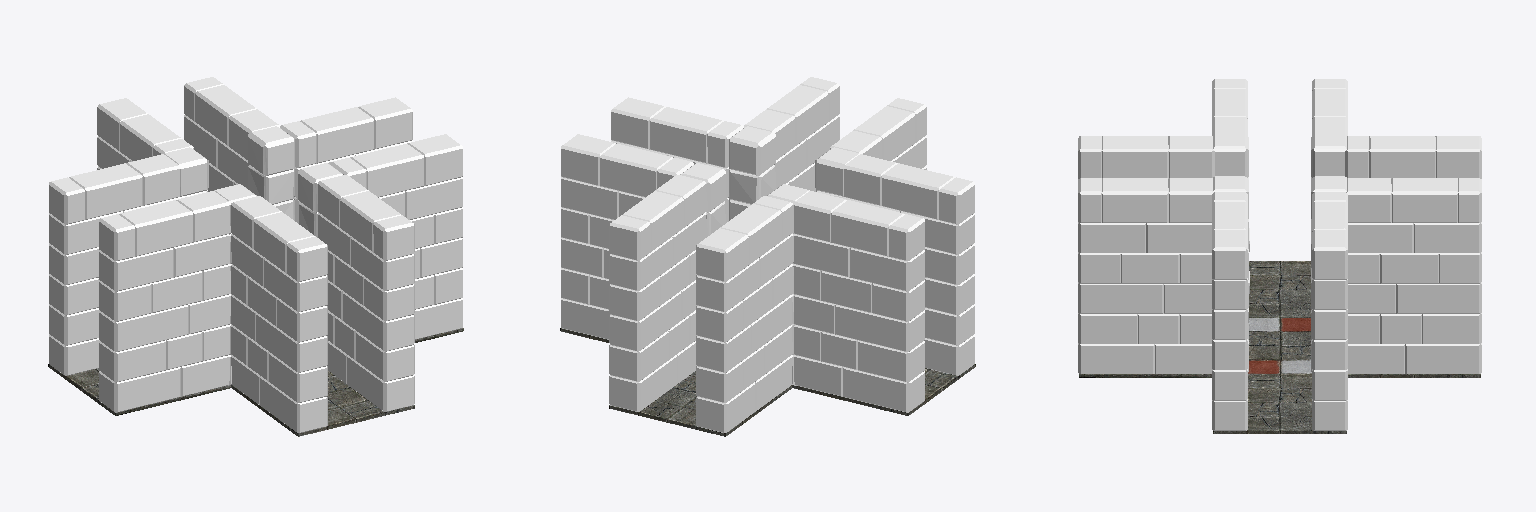
The picture shows the model from 3 angles: view 1: azimuth 30°, elevation 25°; view 2: azimuth 150°, elevation 25°; view 3: azimuth 270°, elevation 25°; orthographic projection.
Visible parts, largest first — view 1: Box4150, Box4149, Box4139, Box4132, Box4151, Box3456, Box4152, Box3458, Box4146, Box030, Box4147, Box4145 (+2 smaller); view 2: Box4132, Box3458, Box3456, Box4150, Box4152, Box4139, Box4151, Box4149, Box4147, Box4140, Box4146, Box4148 (+2 smaller); view 3: Box3456, Box4139, Box4151, Box4152, Box3458, Box4149, Box026, Box024, Box00234, Box4132, Box4150, Box4145 (+5 smaller).
Part boxes in pixels (bbox=[...]): Box4150: bbox=[99, 191, 231, 412]; Box4149: bbox=[231, 196, 327, 432]; Box4139: bbox=[318, 175, 414, 411]; Box4132: bbox=[49, 154, 179, 375]; Box4151: bbox=[330, 134, 462, 339]; Box3456: bbox=[184, 77, 279, 191]; Box4152: bbox=[280, 97, 412, 223]; Box3458: bbox=[97, 98, 193, 169]; Box4146: bbox=[248, 126, 294, 220]; Box030: bbox=[231, 371, 414, 436]; Box4147: bbox=[298, 163, 342, 237]; Box4145: bbox=[164, 147, 208, 198]; Box4132: bbox=[792, 191, 924, 412]; Box3458: bbox=[696, 196, 792, 432]; Box3456: bbox=[609, 175, 705, 411]; Box4150: bbox=[843, 154, 974, 375]; Box4152: bbox=[561, 134, 693, 339]; Box4139: bbox=[744, 77, 839, 191]; Box4151: bbox=[611, 97, 743, 222]; Box4149: bbox=[830, 98, 926, 169]; Box4147: bbox=[729, 126, 775, 220]; Box4140: bbox=[609, 371, 792, 436]; Box4146: bbox=[681, 163, 725, 237]; Box4148: bbox=[815, 147, 859, 197]; Box3456: bbox=[1346, 178, 1481, 373]; Box4139: bbox=[1078, 178, 1213, 373]; Box4151: bbox=[1212, 192, 1247, 430]; Box4152: bbox=[1312, 192, 1347, 430]; Box3458: bbox=[1345, 136, 1481, 179]; Box4149: bbox=[1078, 136, 1214, 179]; Box026: bbox=[1213, 374, 1346, 433]; Box024: bbox=[1249, 261, 1310, 317]; Box00234: bbox=[1248, 318, 1311, 373]; Box4132: bbox=[1312, 79, 1347, 135]; Box4150: bbox=[1212, 79, 1247, 135]; Box4145: bbox=[1311, 134, 1346, 270].
Size of the model in its own units: 6.04 by 3.08 by 6.04.
3 materials, 2 textured.